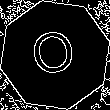O_S: (28, 25, 82, 85)
